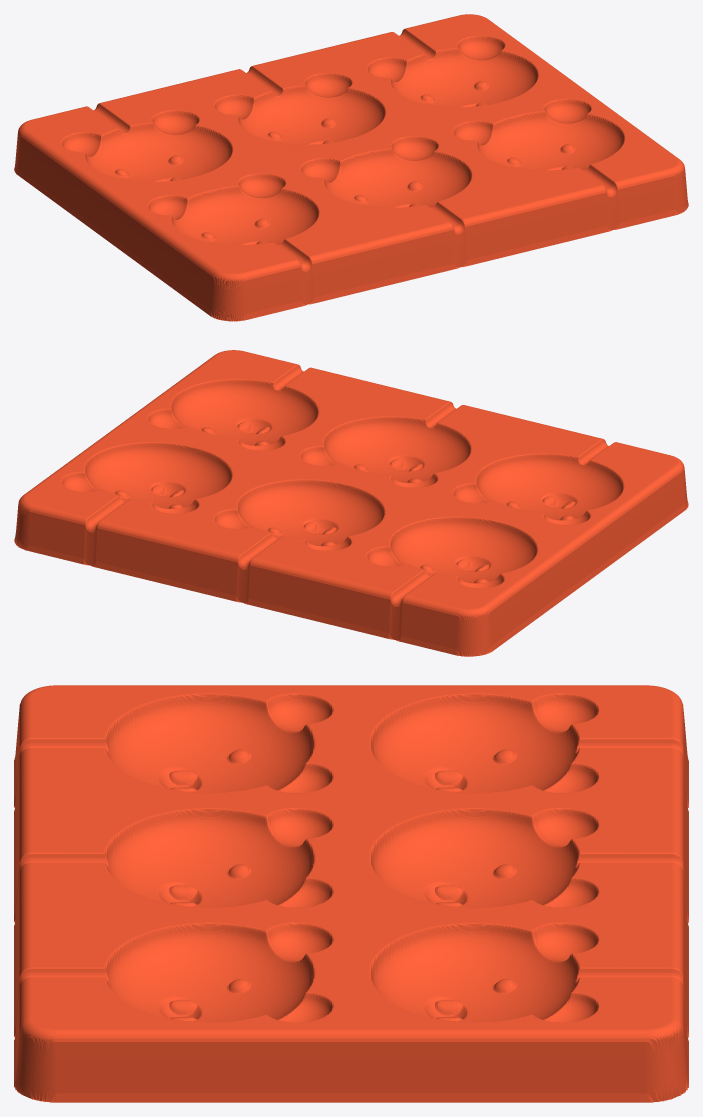
The model's file is mold.glb.
The picture shows the model from 3 angles, top to bottom: view 1: azimuth 30°, elevation 25°; view 2: azimuth 150°, elevation 25°; view 3: azimuth 270°, elevation 25°; orthographic projection. The views are drawn at different scales.
Parts seen in each view (by area): view 1: geometry_0; view 2: geometry_0; view 3: geometry_0.
Part boxes in pixels (bbox=[...]): geometry_0: bbox=[14, 14, 688, 321]; geometry_0: bbox=[14, 350, 688, 656]; geometry_0: bbox=[14, 685, 688, 1102].
Size of the model in its own units: 0.1787 by 0.0155 by 0.1428.
